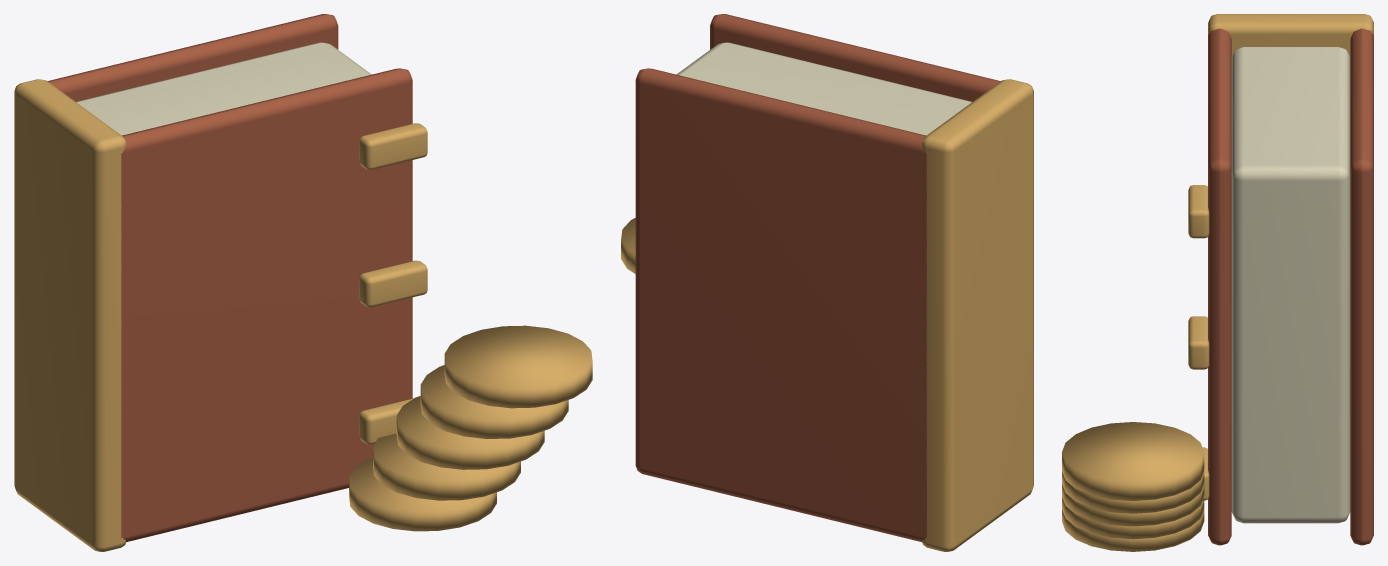
The model's file is relic-finalDividend.glb.
The picture shows the model from 3 angles, left to right: view 1: azimuth 30°, elevation 25°; view 2: azimuth 150°, elevation 25°; view 3: azimuth 270°, elevation 25°; orthographic projection. The views are drawn at different scales.
Parts seen in each view (by area): view 1: relic-finalDividend / Copper | patinated oxblood, relic-finalDividend / Brass | machined champagne, relic-finalDividend / Ceramic | warm ivory; view 2: relic-finalDividend / Copper | patinated oxblood, relic-finalDividend / Brass | machined champagne, relic-finalDividend / Ceramic | warm ivory; view 3: relic-finalDividend / Ceramic | warm ivory, relic-finalDividend / Copper | patinated oxblood, relic-finalDividend / Brass | machined champagne.
Boxes of the visible parts, bbox=[...] form: relic-finalDividend / Copper | patinated oxblood: bbox=[47, 14, 412, 542]; relic-finalDividend / Brass | machined champagne: bbox=[14, 79, 592, 551]; relic-finalDividend / Ceramic | warm ivory: bbox=[76, 42, 371, 135]; relic-finalDividend / Copper | patinated oxblood: bbox=[635, 14, 1000, 541]; relic-finalDividend / Brass | machined champagne: bbox=[621, 79, 1033, 551]; relic-finalDividend / Ceramic | warm ivory: bbox=[676, 42, 971, 135]; relic-finalDividend / Ceramic | warm ivory: bbox=[1231, 47, 1350, 523]; relic-finalDividend / Copper | patinated oxblood: bbox=[1208, 28, 1373, 545]; relic-finalDividend / Brass | machined champagne: bbox=[1062, 14, 1373, 551].
Bounding box in the file's own units: 1.87 × 1.65 × 1.19.
